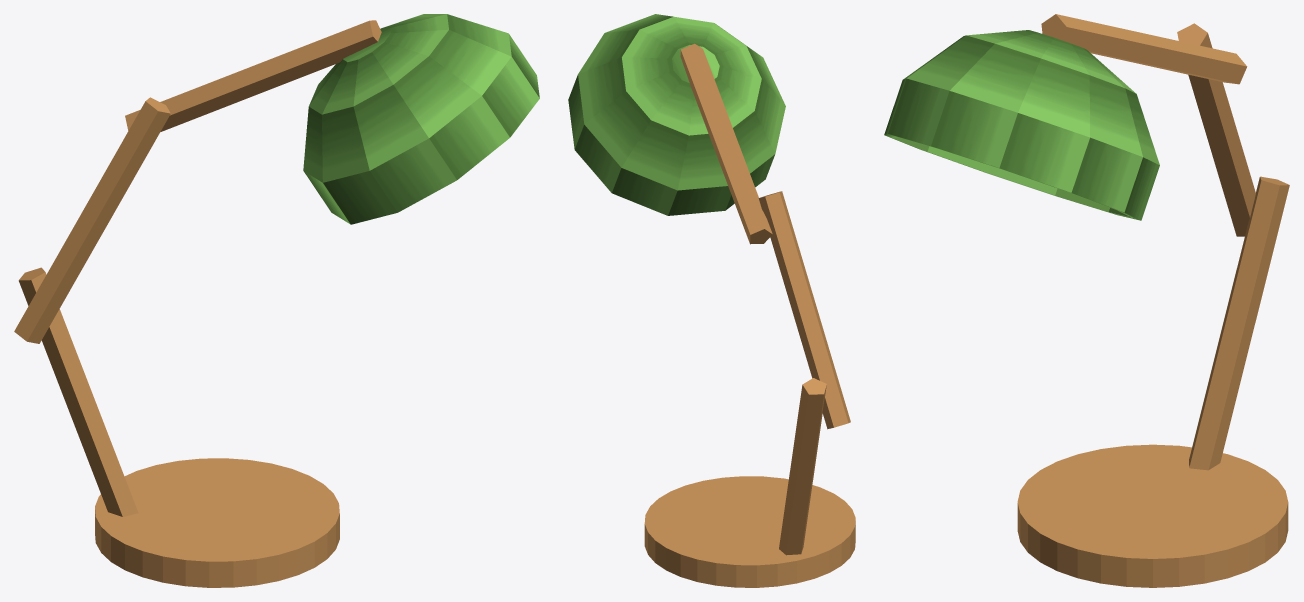
The model's file is lamp.fbx.
3 renders of one model, left to right at view 1: azimuth 30°, elevation 25°; view 2: azimuth 150°, elevation 25°; view 3: azimuth 270°, elevation 25°, orthographic. The views are drawn at different scales.
Parts seen in each view (by area): view 1: Cylinder.001; view 2: Cylinder.001; view 3: Cylinder.001.
Boxes of the visible parts, left/top/right/bottom form: Cylinder.001: left=14, top=14, right=539, bottom=587; Cylinder.001: left=568, top=14, right=855, bottom=587; Cylinder.001: left=884, top=14, right=1289, bottom=587.
Bounding box in the file's own units: 125 × 152 × 97.26.
Materials: 1 (1 with a texture image).
